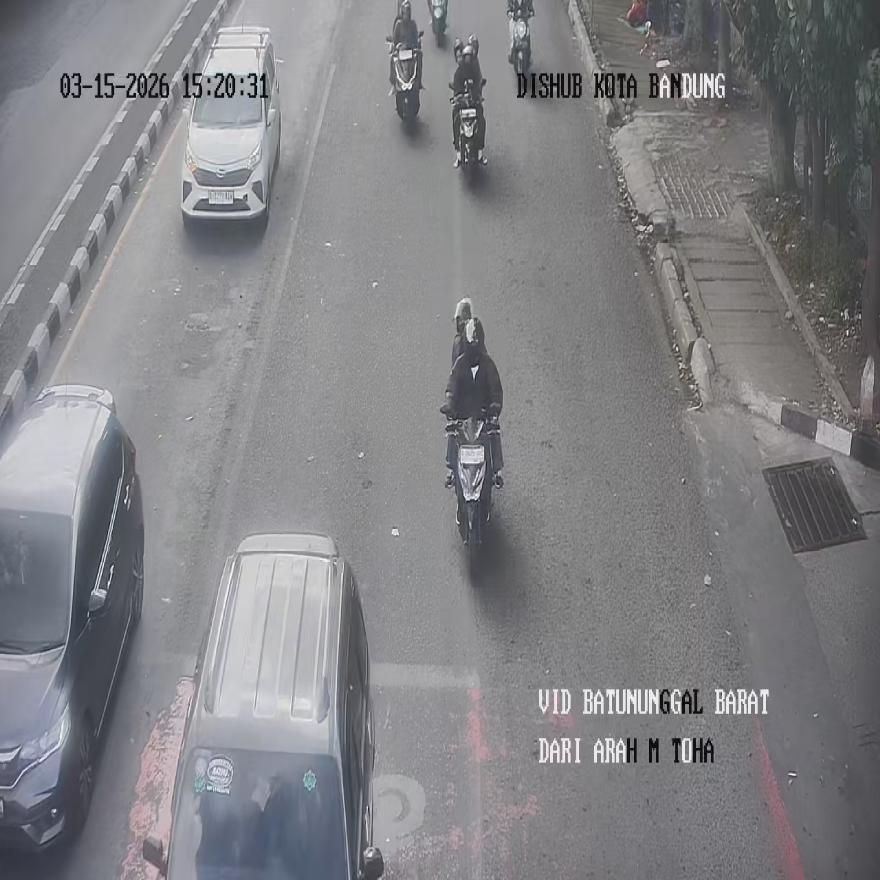Mobil: (142, 532, 384, 877), (0, 385, 144, 852), (180, 25, 281, 222)
Motor: (446, 413, 499, 571), (450, 79, 485, 170), (388, 34, 422, 123), (507, 11, 531, 82), (429, 0, 448, 46)
